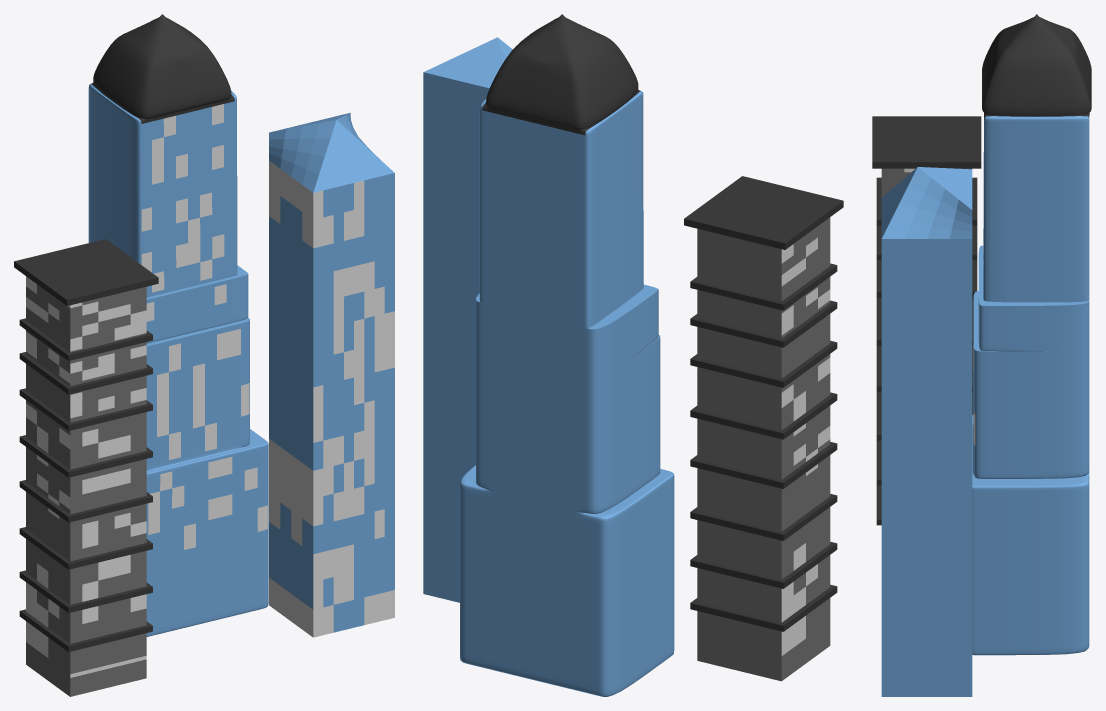
Rendered from achtergrond gebouwen 1.fbx.
3 renders of one model, left to right at view 1: azimuth 30°, elevation 25°; view 2: azimuth 150°, elevation 25°; view 3: azimuth 270°, elevation 25°, orthographic. The views are drawn at different scales.
Parts seen in each view (by area): view 1: Cube, Cube.001, Cube.011; view 2: Cube, Cube.011, Cube.001; view 3: Cube, Cube.001, Cube.011.
Part boxes in pixels (x1,y1,x2,y2): Cube: (88, 14, 268, 636); Cube.001: (269, 112, 394, 637); Cube.011: (14, 239, 158, 696); Cube: (460, 14, 674, 696); Cube.011: (684, 176, 843, 681); Cube.001: (423, 37, 512, 602); Cube: (972, 14, 1091, 655); Cube.001: (881, 167, 972, 696); Cube.011: (872, 116, 981, 525).
Bounding box in the file's own units: 870 × 1468 × 482.
